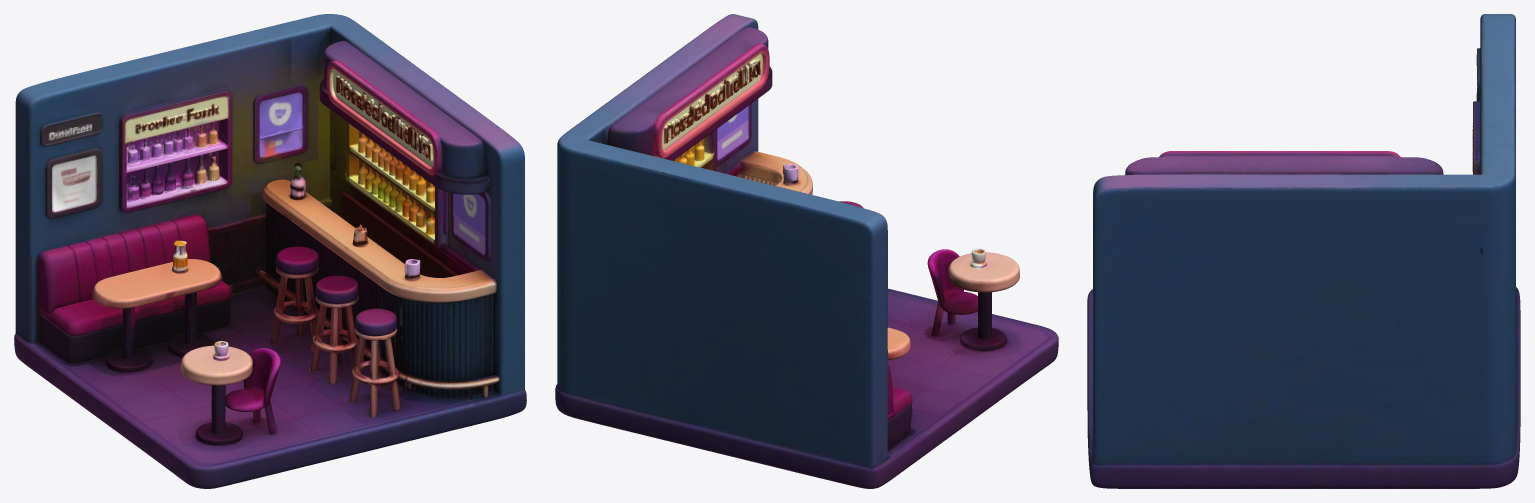
File: room.glb
The picture shows the model from 3 angles, left to right: view 1: azimuth 30°, elevation 25°; view 2: azimuth 150°, elevation 25°; view 3: azimuth 270°, elevation 25°; orthographic projection. The views are drawn at different scales.
Parts seen in each view (by area): view 1: node_0; view 2: node_0; view 3: node_0.
Part boxes in pixels (x1,y1,x2,y2): node_0: [14, 14, 526, 488]; node_0: [555, 14, 1058, 488]; node_0: [1087, 14, 1520, 488].
Size of the model in its own units: 0.7637 by 0.595 by 0.7617.
1 material, 1 textured.
